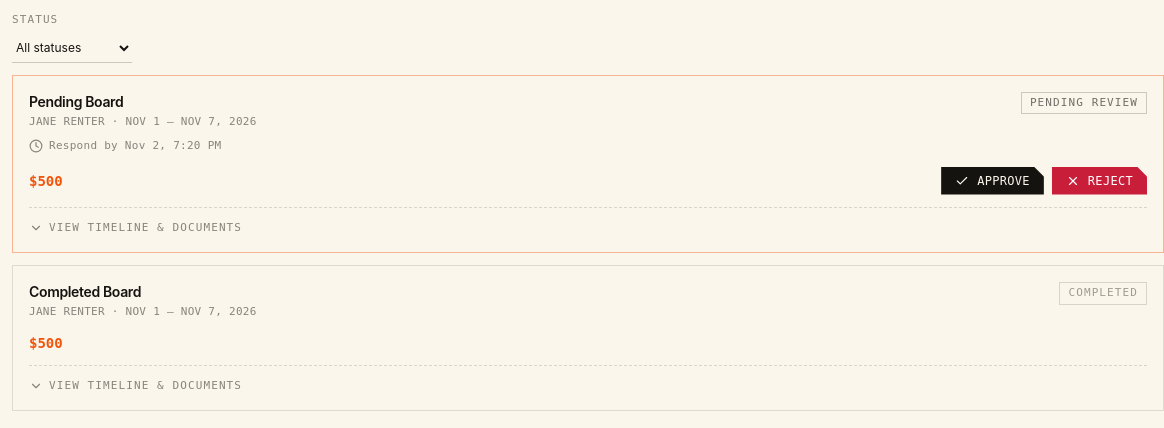
Scenario: BookingInboxPanel › filters by status
Select "Completed" in the dropdown labelled "Status" at x=72, y=48, box x1=12 y1=32 x2=132 y2=62
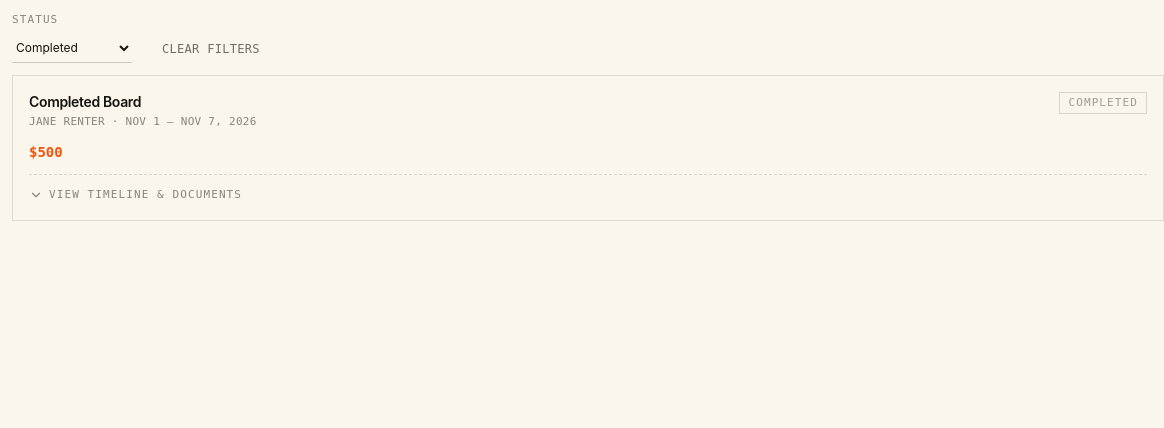
Expected: the text "Completed Board" is shown, x1=29 y1=92 x2=141 y2=110
Expected: the text "Pending Board" is gone
